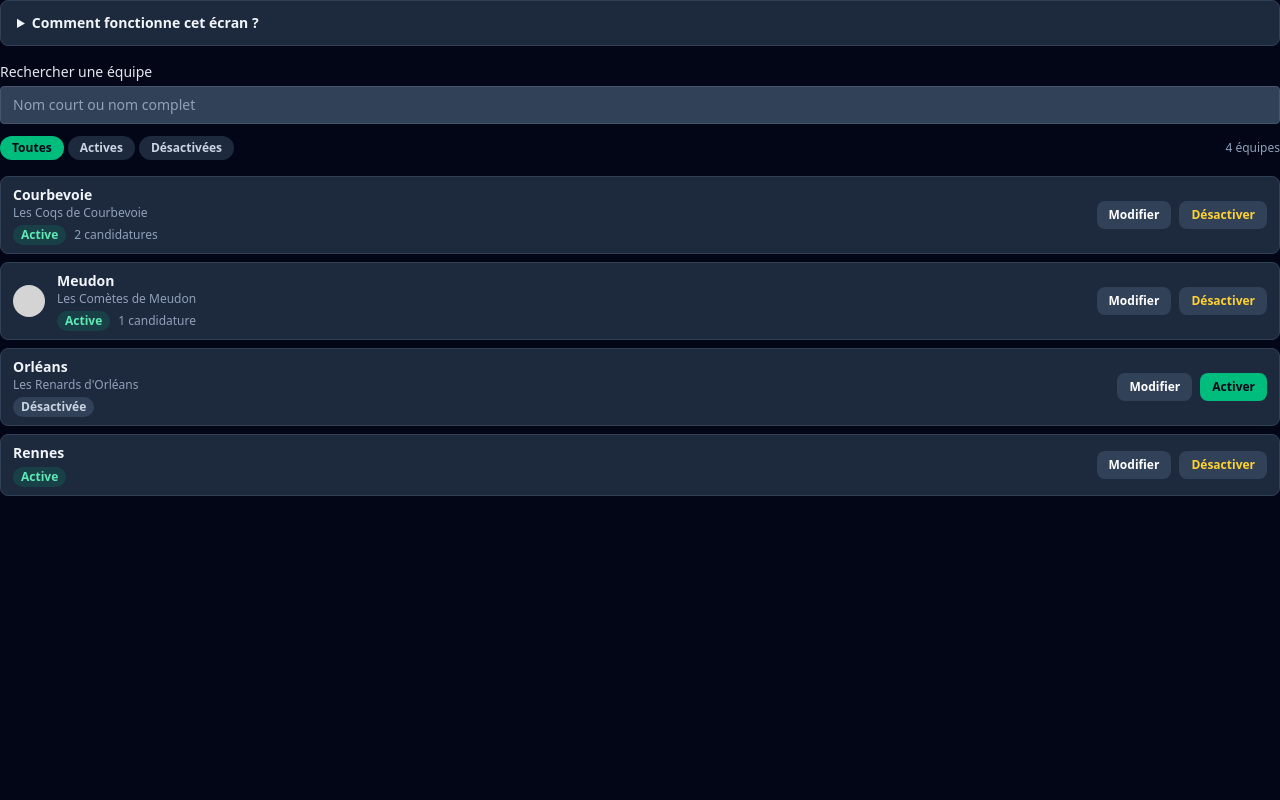
GestionEquipesReferentiel — activation et désactivation (CA9) › mentionne les candidatures, et qu'elles ne sont pas modifiées, quand l'équipe en a
Click the button with aria-label "Désactiver Courbevoie" at (1223, 215), box [1179,201,1267,229]
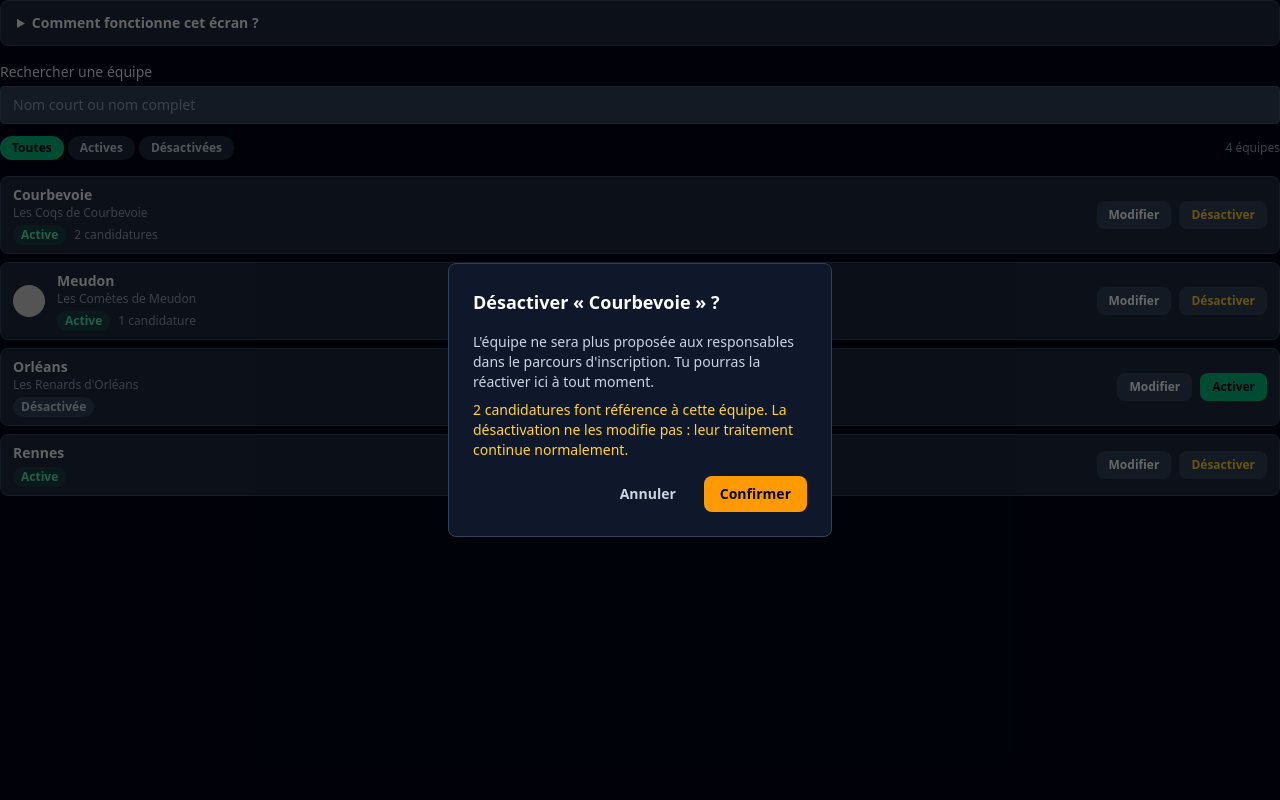
Now the dialog shows "2 candidatures font référence à cette équipe.", box [448,263,832,537]
Now the dialog shows "La désactivation ne les modifie pas", box [473,400,793,459]
